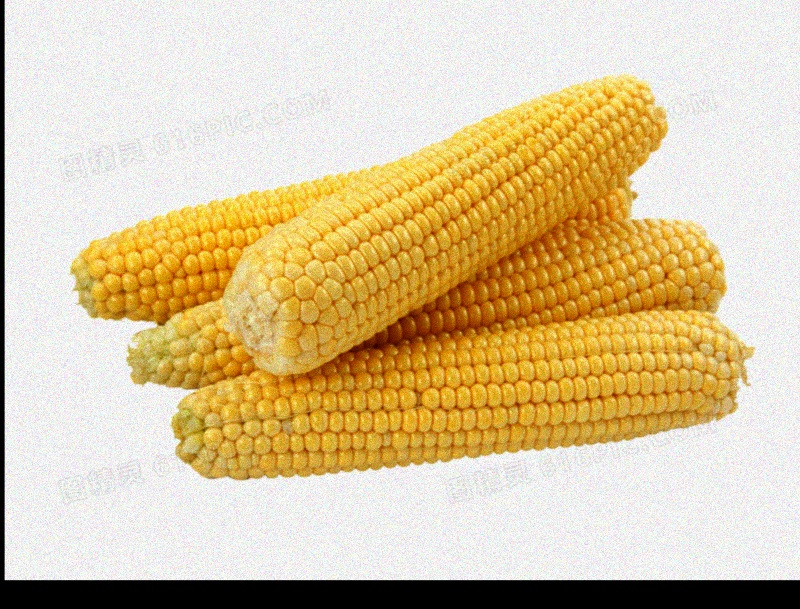corn: (247, 79, 657, 360), (65, 120, 640, 320), (129, 214, 727, 387), (192, 307, 747, 481)
